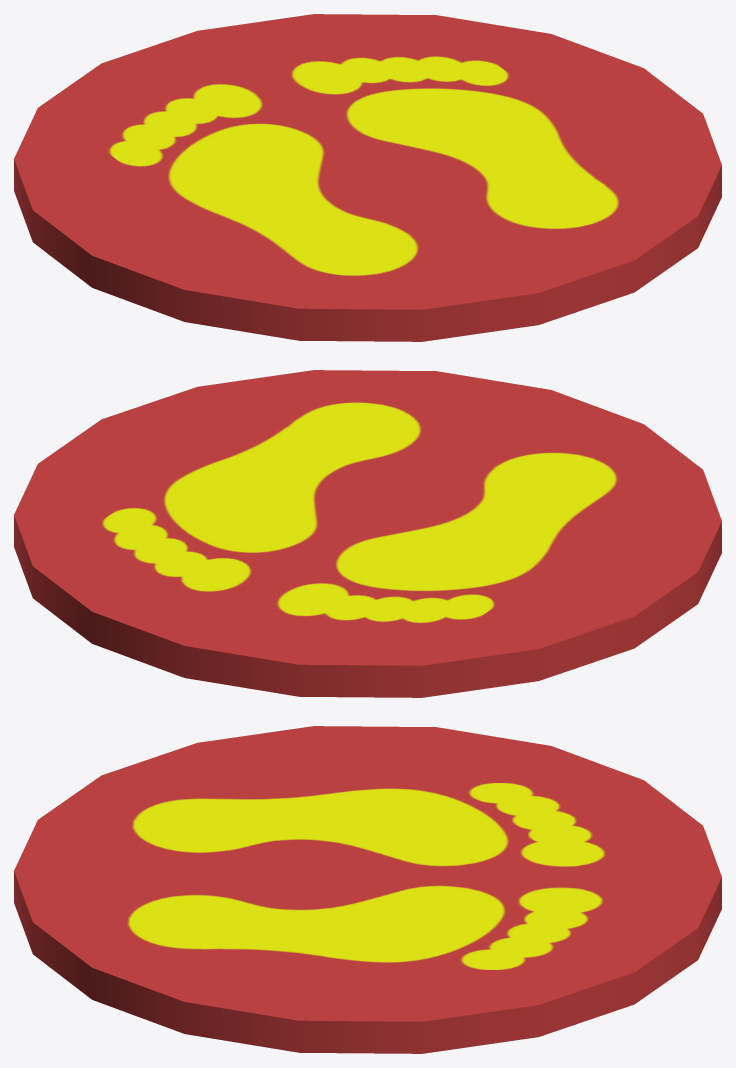
The model's file is control.fbx.
The picture shows the model from 3 angles, top to bottom: view 1: azimuth 30°, elevation 25°; view 2: azimuth 150°, elevation 25°; view 3: azimuth 270°, elevation 25°; orthographic projection.
Parts seen in each view (by area): view 1: control; view 2: control; view 3: control.
Boxes of the visible parts, box(x1,y1,x2,y2) form: control: box(14, 14, 721, 341); control: box(14, 370, 721, 697); control: box(14, 726, 721, 1053).
Bounding box in the file's own units: 79.06 × 4 × 79.98.
1 material, 1 textured.
